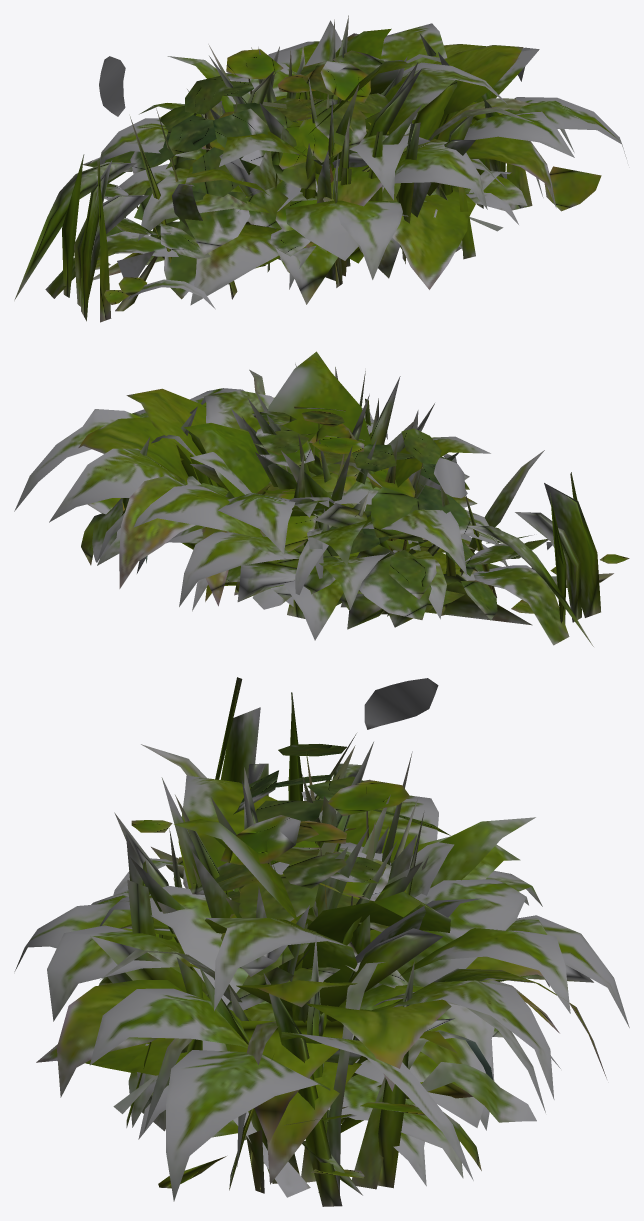
File: plants.glb
The picture shows the model from 3 angles, top to bottom: view 1: azimuth 30°, elevation 25°; view 2: azimuth 150°, elevation 25°; view 3: azimuth 270°, elevation 25°; orthographic projection. The views are drawn at different scales.
Parts seen in each view (by area): view 1: small_fern_03, woodland_plant_03, woodland_plant_02, small_fern_02, tall_grass_02, tall_grass_01, tall_grass_03, woodland_plant_04, woodland_plant_01, tall_grass_04, small_fern_01; view 2: small_fern_03, woodland_plant_03, woodland_plant_02, small_fern_02, tall_grass_02, tall_grass_03, tall_grass_01, woodland_plant_01, woodland_plant_04, tall_grass_04, small_fern_01; view 3: small_fern_03, small_fern_02, woodland_plant_02, tall_grass_03, tall_grass_02, tall_grass_01, woodland_plant_01, woodland_plant_04, woodland_plant_03, tall_grass_04, small_fern_01.
Boxes of the visible parts, x1=… form: small_fern_03: x1=100, y1=28, x2=507, y2=305; woodland_plant_03: x1=83, y1=75, x2=601, y2=311; woodland_plant_02: x1=45, y1=33, x2=556, y2=298; small_fern_02: x1=14, y1=23, x2=626, y2=300; tall_grass_02: x1=62, y1=80, x2=574, y2=322; tall_grass_01: x1=200, y1=15, x2=437, y2=289; tall_grass_03: x1=99, y1=33, x2=532, y2=310; woodland_plant_04: x1=201, y1=49, x2=412, y2=273; woodland_plant_01: x1=247, y1=50, x2=436, y2=221; tall_grass_04: x1=187, y1=46, x2=404, y2=276; small_fern_01: x1=227, y1=20, x2=367, y2=167; small_fern_03: x1=133, y1=351, x2=507, y2=640; woodland_plant_03: x1=87, y1=428, x2=629, y2=629; woodland_plant_02: x1=78, y1=388, x2=569, y2=645; small_fern_02: x1=14, y1=388, x2=593, y2=646; tall_grass_02: x1=97, y1=369, x2=600, y2=623; tall_grass_03: x1=81, y1=406, x2=554, y2=615; tall_grass_01: x1=230, y1=363, x2=440, y2=594; woodland_plant_01: x1=225, y1=411, x2=433, y2=609; woodland_plant_04: x1=234, y1=406, x2=426, y2=597; tall_grass_04: x1=262, y1=425, x2=458, y2=618; small_fern_01: x1=190, y1=452, x2=436, y2=546; small_fern_03: x1=14, y1=775, x2=629, y2=1130; small_fern_02: x1=90, y1=763, x2=554, y2=1201; woodland_plant_02: x1=36, y1=779, x2=606, y2=1184; tall_grass_03: x1=113, y1=678, x2=536, y2=1206; tall_grass_02: x1=90, y1=677, x2=560, y2=1186; tall_grass_01: x1=114, y1=742, x2=424, y2=1086; woodland_plant_01: x1=190, y1=822, x2=502, y2=1037; woodland_plant_04: x1=188, y1=780, x2=409, y2=980; woodland_plant_03: x1=131, y1=744, x2=450, y2=1188; tall_grass_04: x1=157, y1=794, x2=428, y2=992; small_fern_01: x1=355, y1=841, x2=480, y2=963.
Bounding box in the file's own units: 0.3462 × 0.1133 × 0.2285.
1 material, 1 textured.
